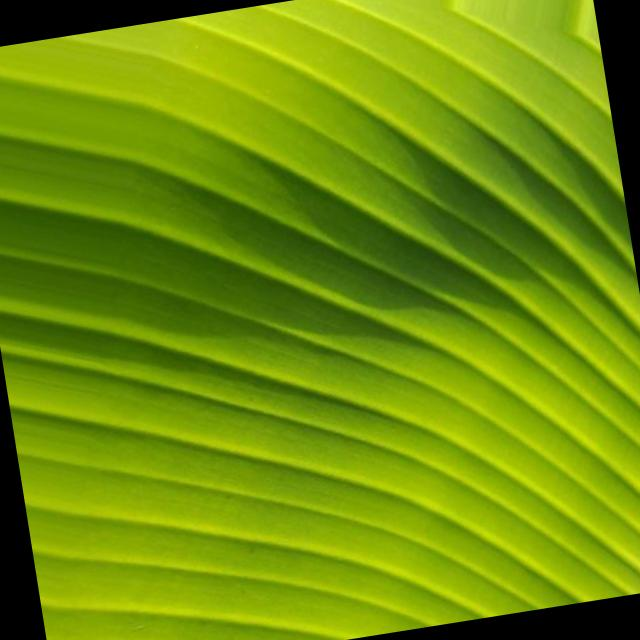Banana_Healthy: (111, 54, 554, 508)
